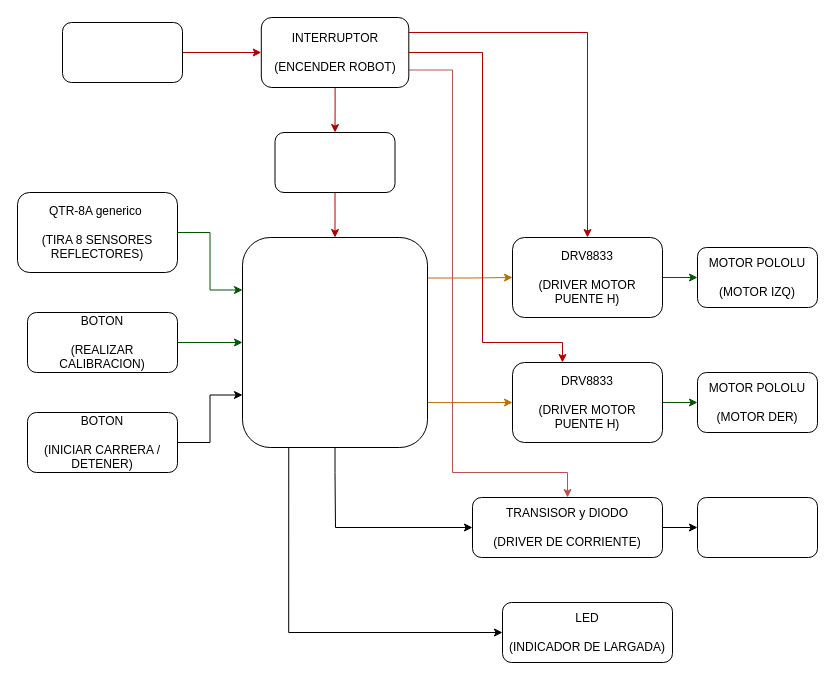
This 835x680 diagram has some shape labels left out. Here are the shapes that lost their labels. From the top down, the centre of each, then its label:
At point 122,52: "BAT 18650 (ALIMENTACION)".
At point 334,162: "AMS 1117 (REGULADOR DE TENSION)".
At point 335,342: "ESP WROOM 32 DEVKIT V1 (MICROCONTROLADOR)".
At point 757,527: "BUZZER PASIVO (AUIDO / MUSICA)".
